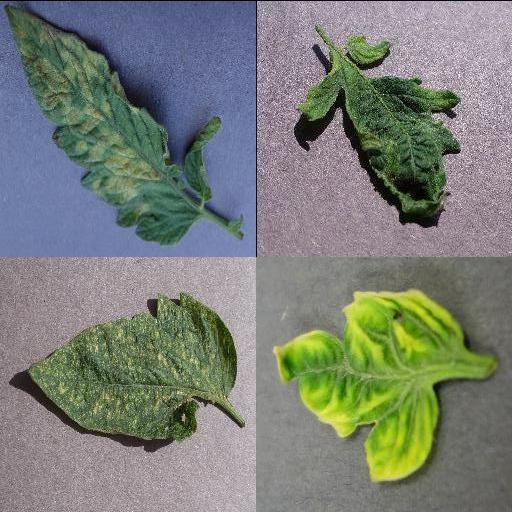Leaf Mold: (3, 4, 221, 241)
Mosaic Virus: (290, 33, 460, 219)
Spider Mites: (25, 292, 239, 442)
Yellow Leaf Curl Virus: (272, 288, 466, 482)
